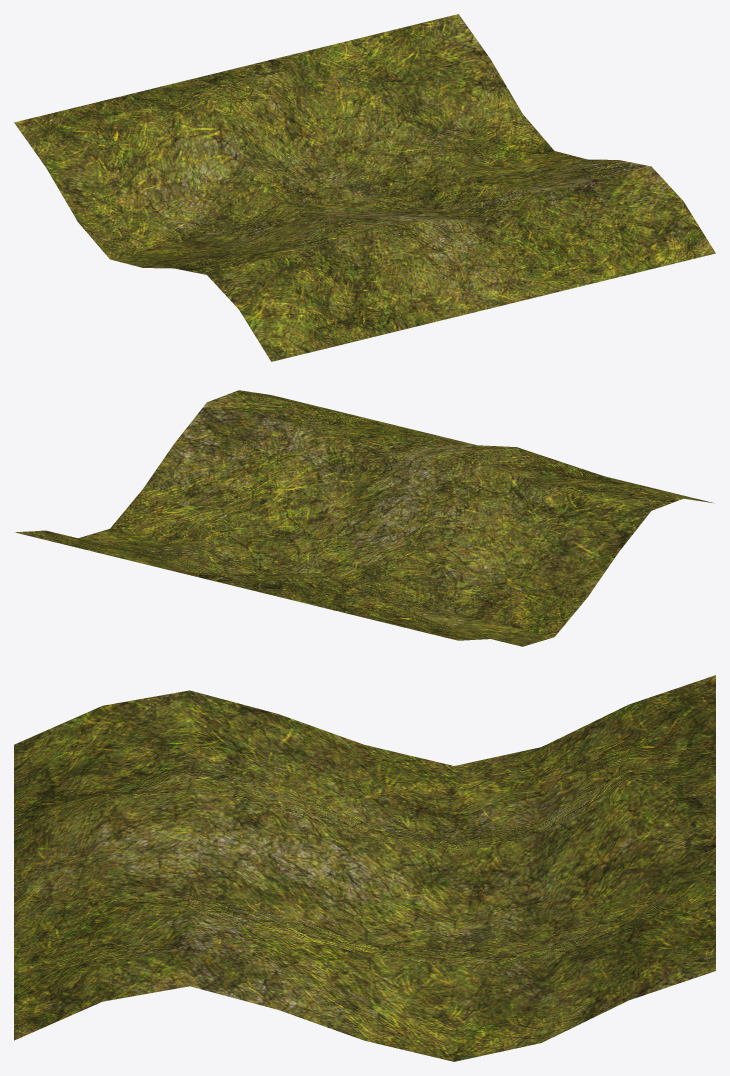
The model's file is Terrain.fbx.
3 views of the same model, one above another, from view 1: azimuth 30°, elevation 25°; view 2: azimuth 150°, elevation 25°; view 3: azimuth 270°, elevation 25° (orthographic). The views are drawn at different scales.
Parts seen in each view (by area): view 1: polymsh; view 2: polymsh; view 3: polymsh.
Boxes of the visible parts, box(x1,y1,x2,y2) form: polymsh: box(14, 14, 715, 361); polymsh: box(15, 390, 714, 646); polymsh: box(14, 675, 715, 1061).
Bounding box in the file's own units: 8 × 1.21 × 8.02.
Materials: 1 (1 with a texture image).
